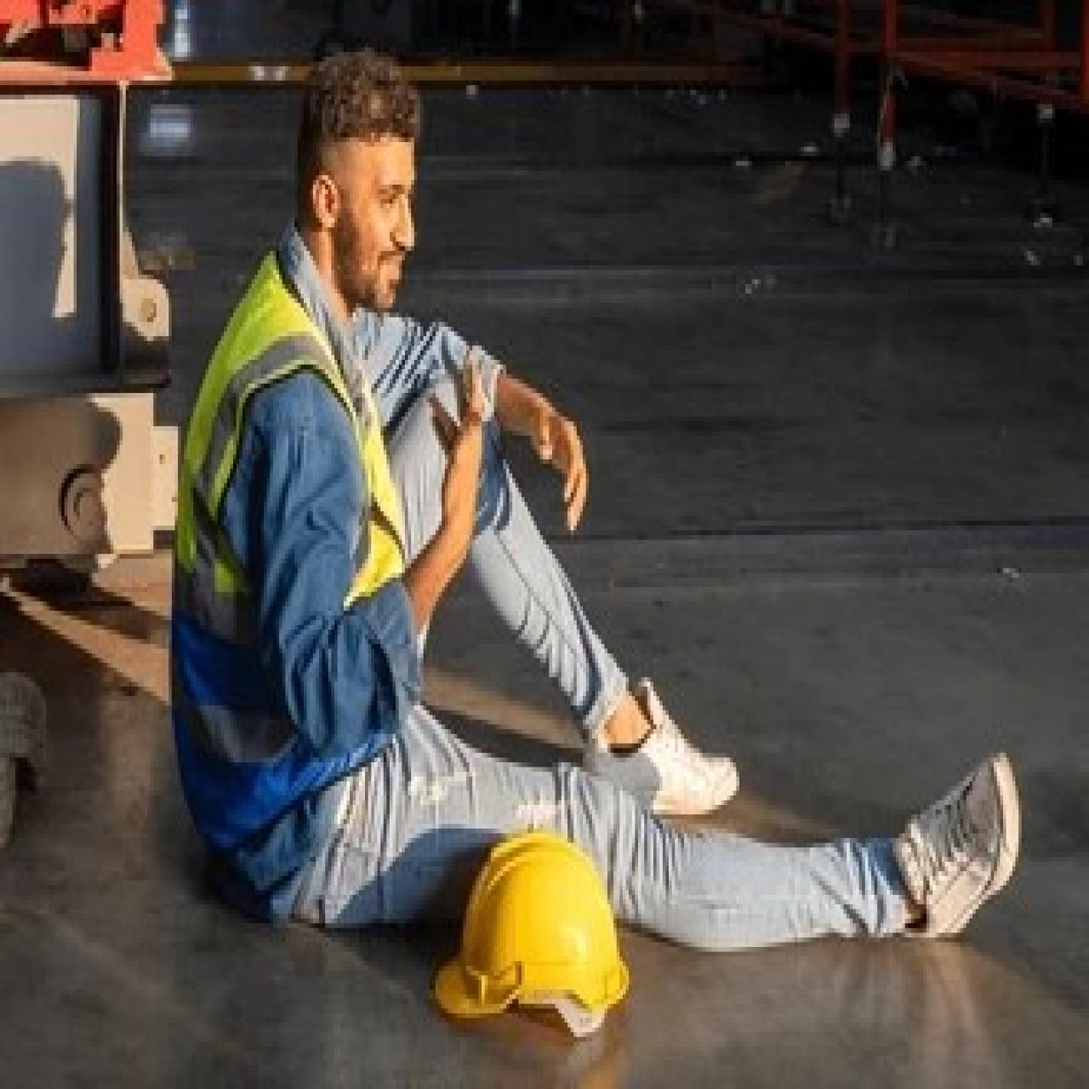Person: (157, 26, 1060, 1043)
Safety_Vest: (181, 247, 425, 874)
